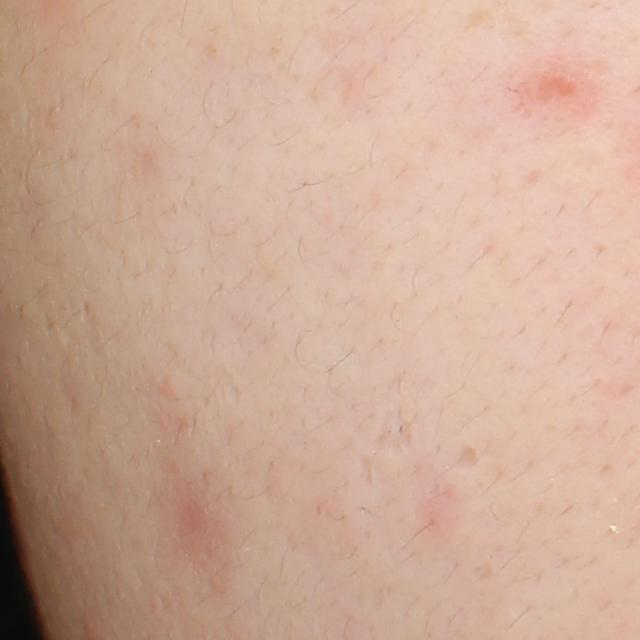atrophic_scar: (451, 442, 482, 473), (357, 452, 377, 495)
